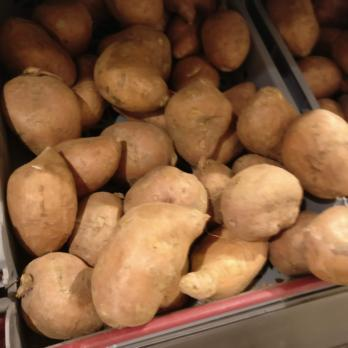Sweet potato: (5, 2, 205, 325), (195, 4, 271, 286), (276, 103, 348, 279), (277, 1, 348, 92)
